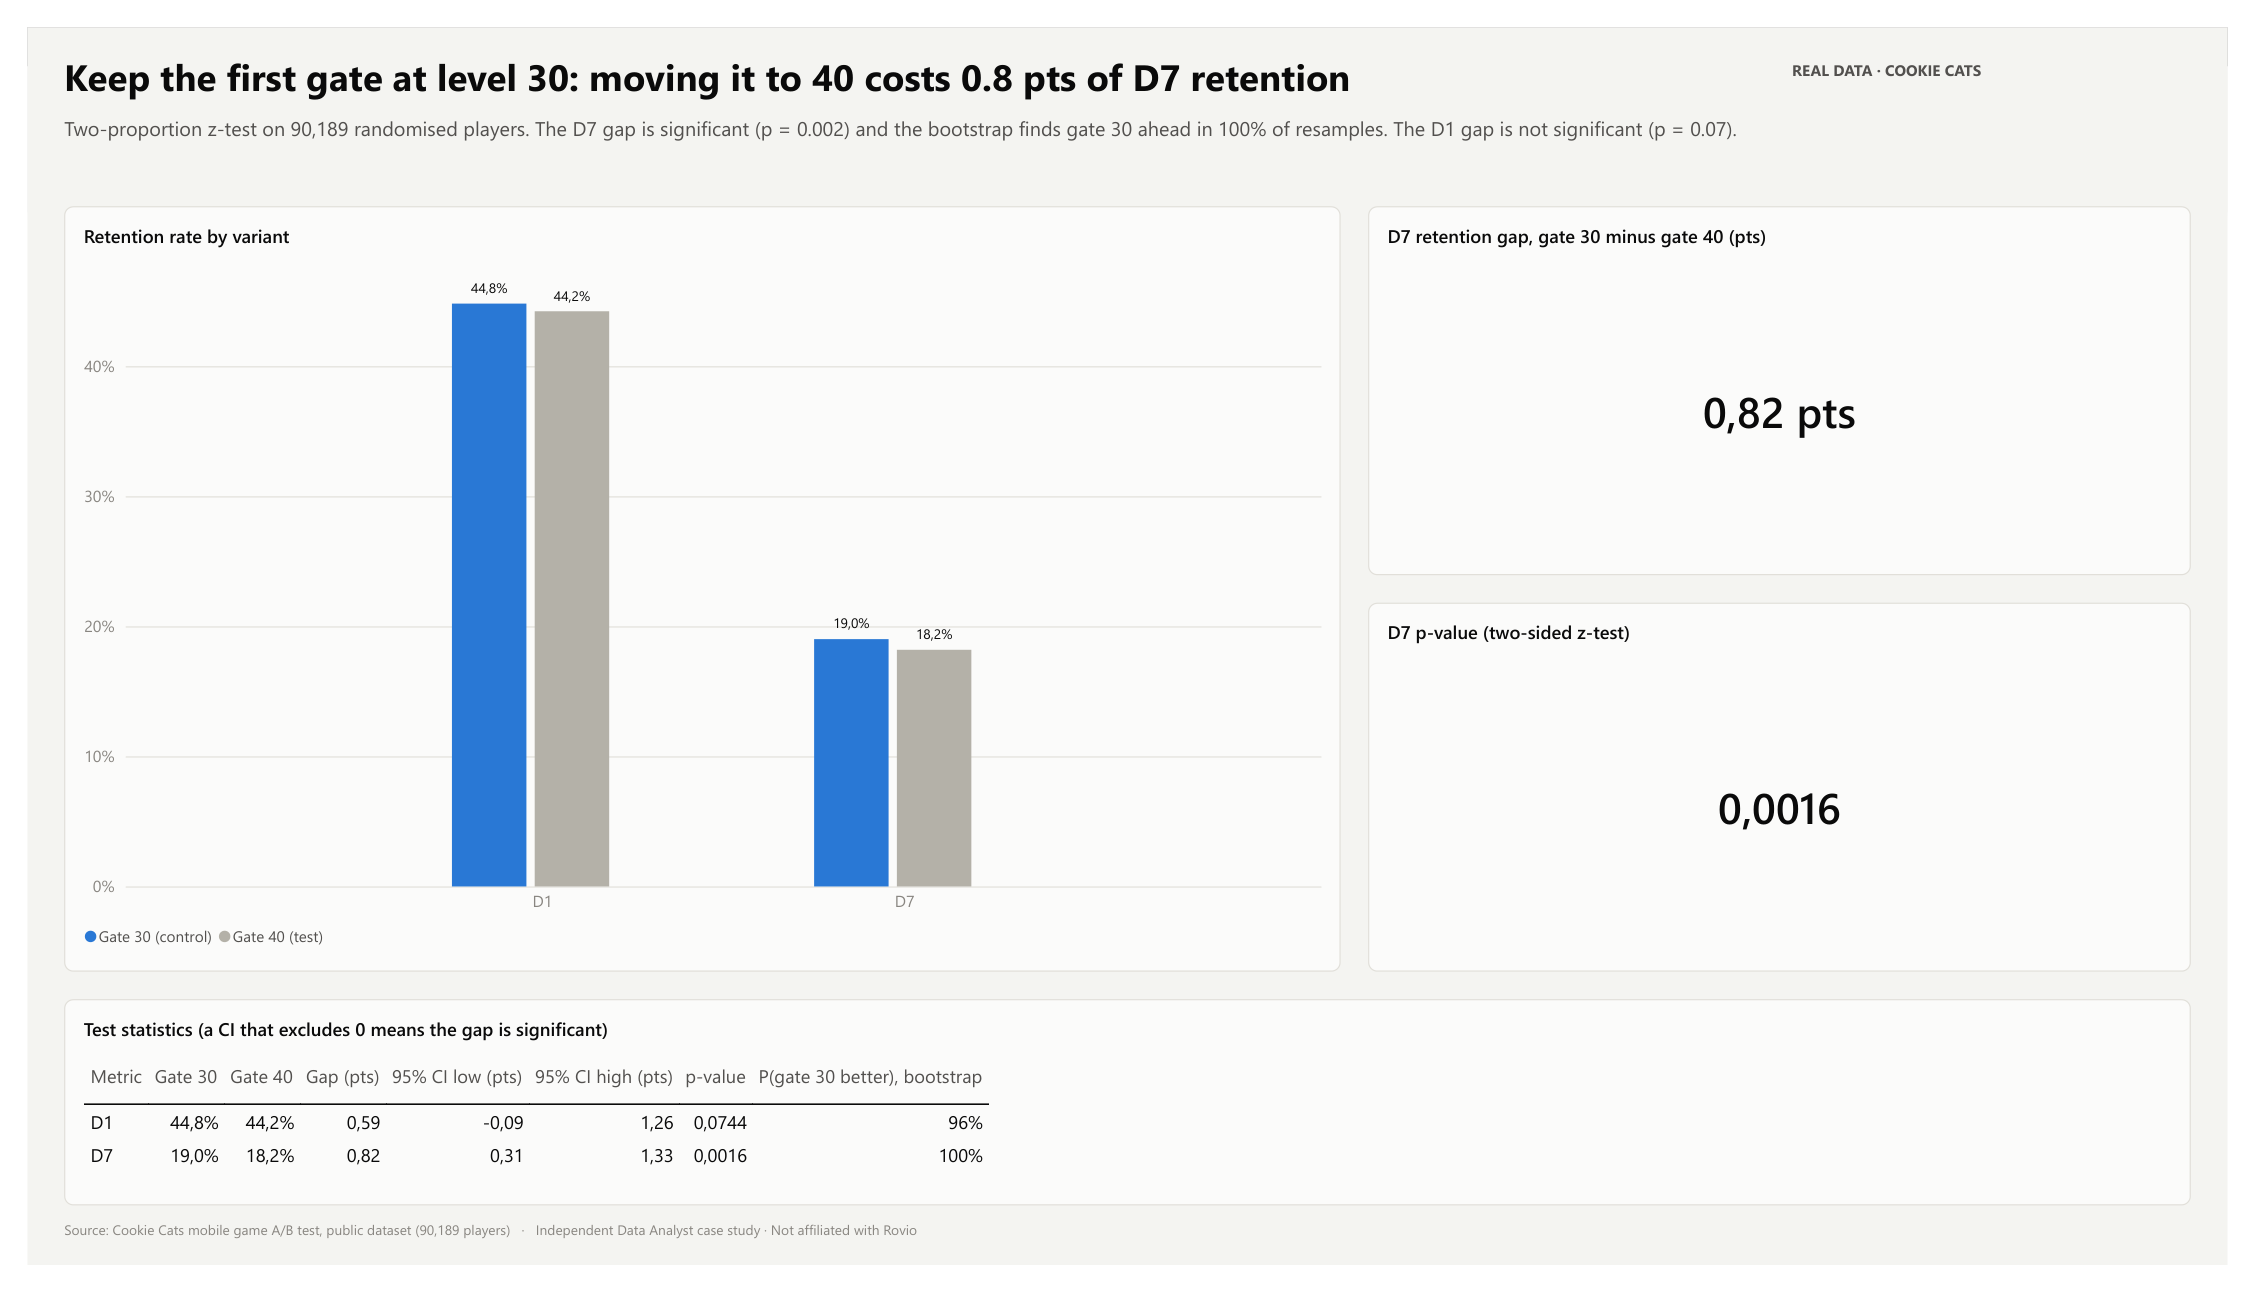

This screenshot's page, from the dashboard's own definition file:
{"tool":"powerbi","page":{"name":"5 · A/B test (Cookie Cats)","canvas":[1920,1080],"ordinal":5},"visuals":[{"type":"textbox","box":[32,20,1500,56],"z":1000},{"type":"textbox","box":[1540,28,348,40],"z":2000},{"type":"textbox","box":[32,76,1856,64],"z":3000},{"type":"clusteredColumnChart","title":"Retention rate by variant","fields":{"Category":["AB Test.metric"],"Y":["Sum(AB Test.gate_30)","Sum(AB Test.gate_40)"]},"box":[32,156,1114,668],"z":4000},{"type":"card","title":"D7 retention gap, gate 30 minus gate 40 (pts)","fields":{"Values":["_Measures.AB D7 Gap (pts)"]},"box":[1170,156,718,322],"z":5000},{"type":"card","title":"D7 p-value (two-sided z-test)","fields":{"Values":["_Measures.AB D7 p-value"]},"box":[1170,502,718,322],"z":6000},{"type":"tableEx","title":"Test statistics (a CI that excludes 0 means the gap is significant)","fields":{"Values":["AB Test.metric","AB Test.gate_30","AB Test.gate_40","AB Test.difference_pts","AB Test.ci_low_pts","AB Test.ci_high_pts","AB Test.p_value","AB Test.prob_gate30_better"]},"box":[32,848,1856,180],"z":7000},{"type":"textbox","box":[32,1040,1856,32],"z":8000}]}

Visuals, with their boxes in screenshot pixels (x1, y1, x2, y2), scaled from the page's 1920x1080 canvas onto the 2255x1293 screenshot:
textbox: [38,24,1799,91]
textbox: [1809,34,2217,81]
textbox: [38,91,2217,168]
"Retention rate by variant" clusteredColumnChart: [38,187,1346,987]
"D7 retention gap, gate 30 minus gate 40 (pts)" card: [1374,187,2217,572]
"D7 p-value (two-sided z-test)" card: [1374,601,2217,987]
"Test statistics (a CI that excludes 0 means the gap is significant)" tableEx: [38,1015,2217,1231]
textbox: [38,1245,2217,1283]
